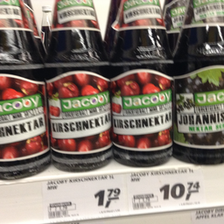juice: (45, 1, 115, 172), (107, 1, 174, 167), (1, 1, 50, 181), (172, 1, 224, 167)
